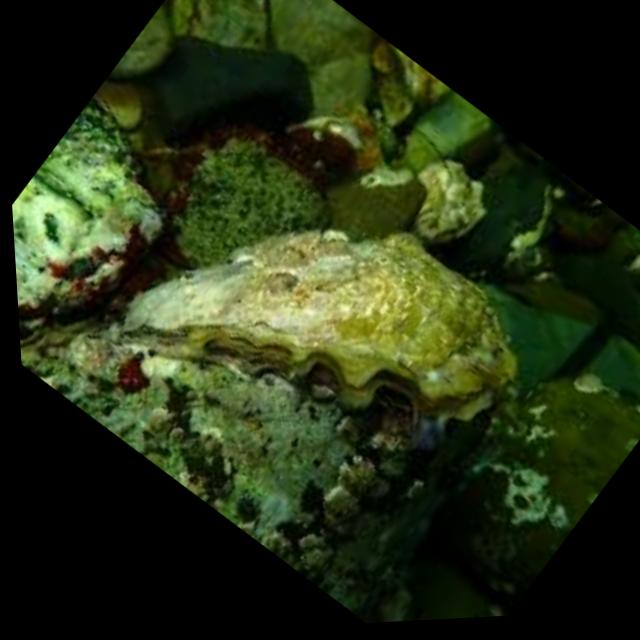Oyster-Closed: (105, 105, 572, 556), (13, 200, 487, 640)
Oyster-Indeterminate: (6, 85, 217, 367), (144, 114, 352, 320)
